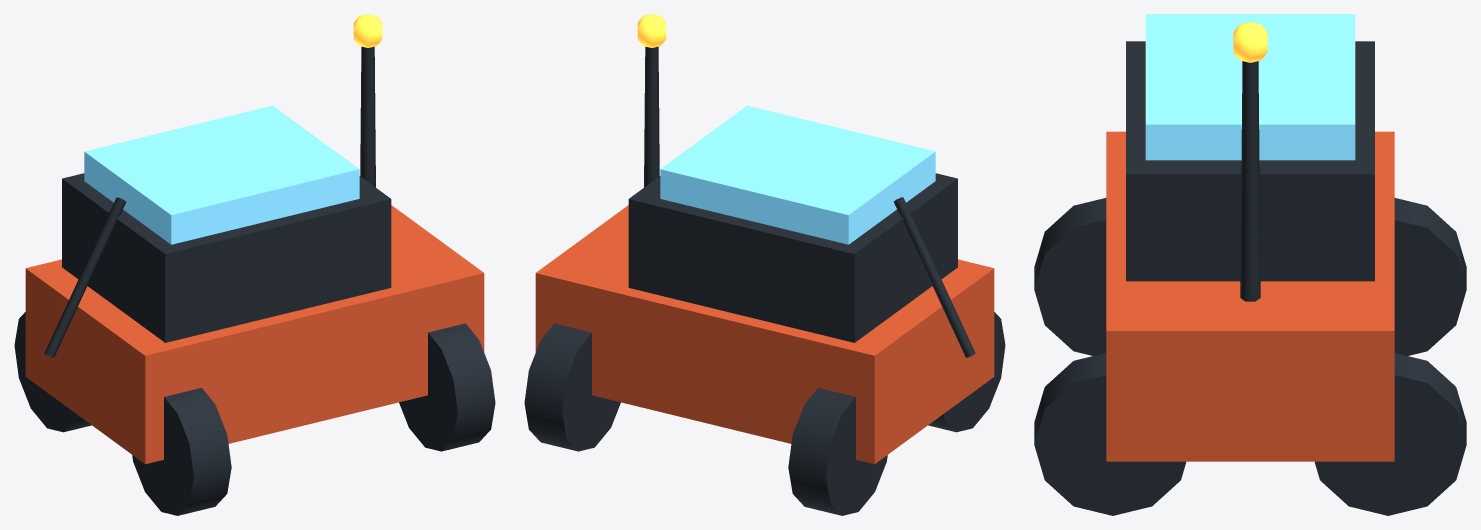
File: rover.glb
The picture shows the model from 3 angles, left to right: view 1: azimuth 30°, elevation 25°; view 2: azimuth 150°, elevation 25°; view 3: azimuth 270°, elevation 25°; orthographic projection. The views are drawn at different scales.
Visible parts, largest first — view 1: rover; view 2: rover; view 3: rover.
Part boxes in pixels (<box>): rover: <box>14,14,495,515</box>; rover: <box>524,14,1005,515</box>; rover: <box>1034,14,1466,515</box>.
Size of the model in its own units: 4.02 by 3.96 by 3.3.
